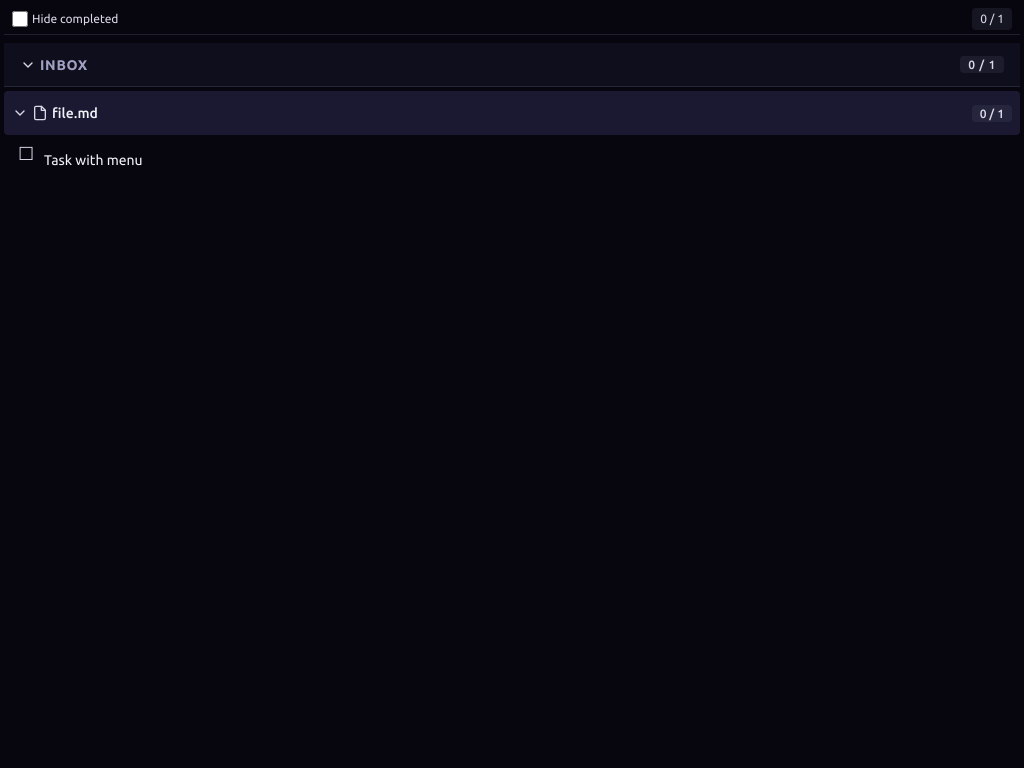
Test: TaskList › context menu › closes context menu on click outside
Right-click the button named "Toggle task: Task with menu".
right_click(26, 153)  # box [4,131,48,175]
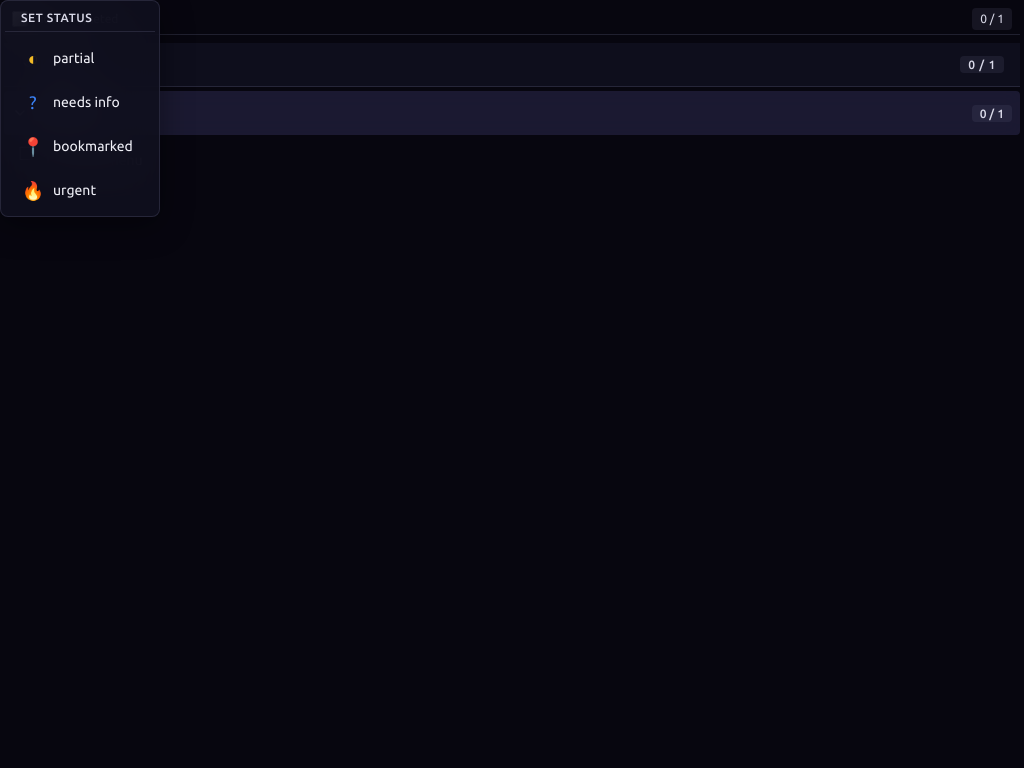
Expected: the menu is shown, [0,0,160,217]
Click outside (on the task list container)
Press the mouse on the element that starts with "Hide completed" at x=512, y=384, box [0,0,1023,767]
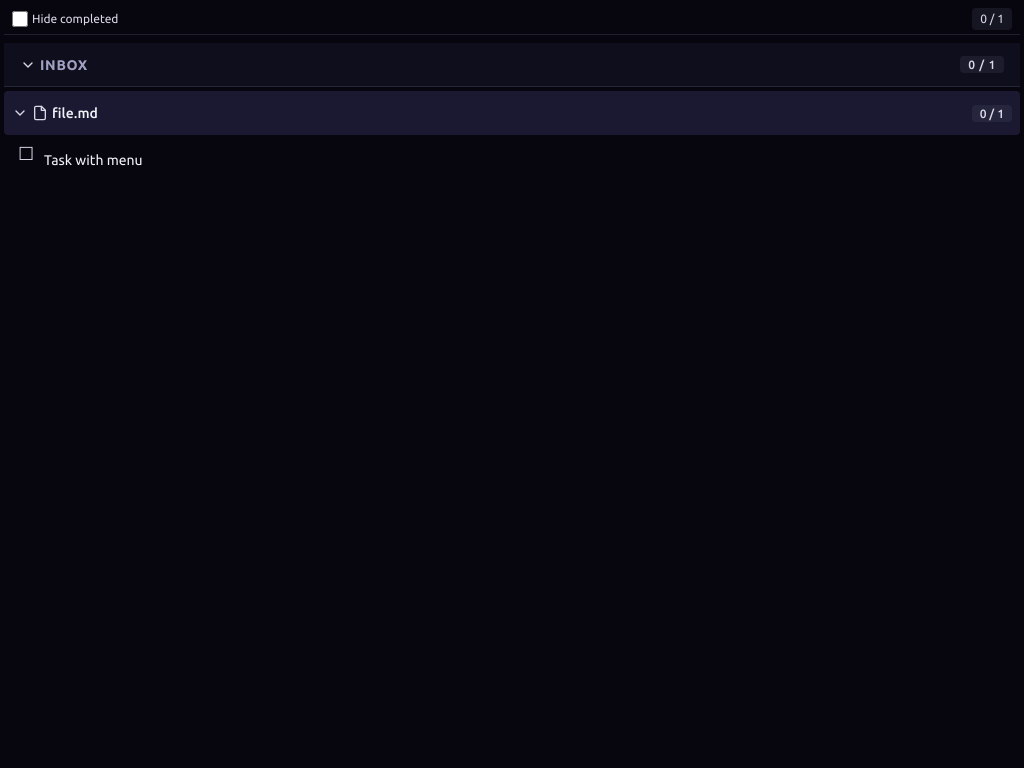
Expected: the menu is gone
